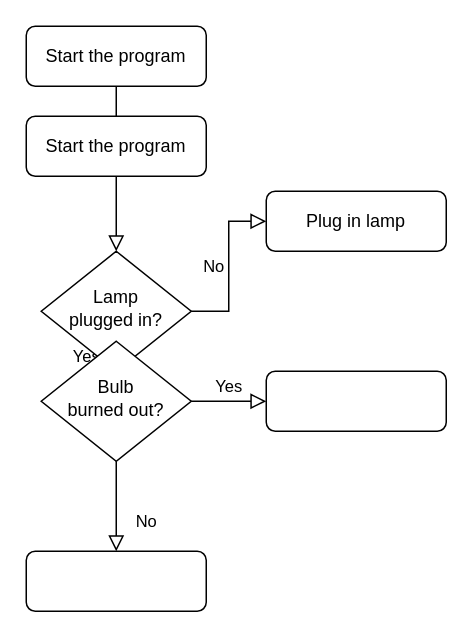
Some shapes in this 473 by 638 pixel diagram are drawn without their labels. Here are the shapes that lost their labels. From the top down, the centre of each, then its label:
At pixel 355 400: "Replace Bulb".
At pixel 115 580: "Repair Lamp".
